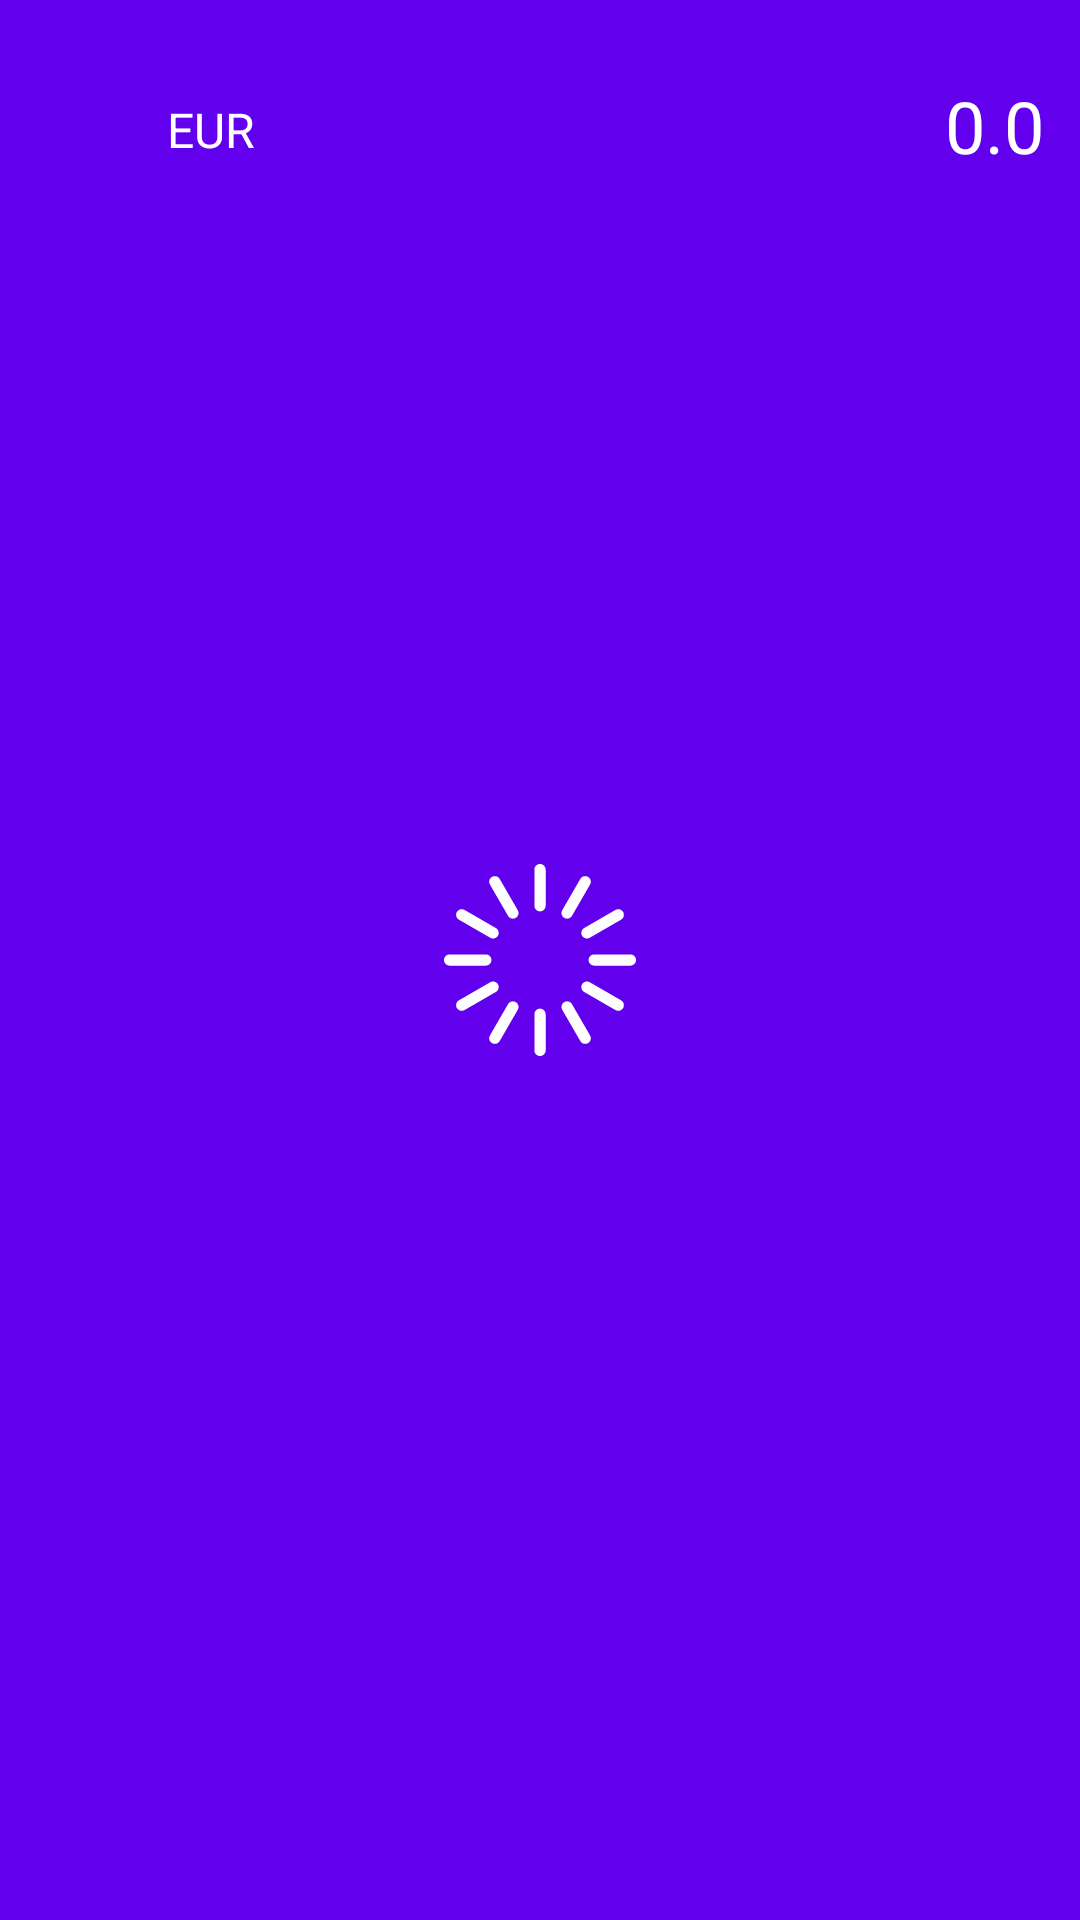

Where icons sit on this 1080×1920 app screen, as [x1, y1, x2, y2]:
progress: [444, 864, 636, 1056]
